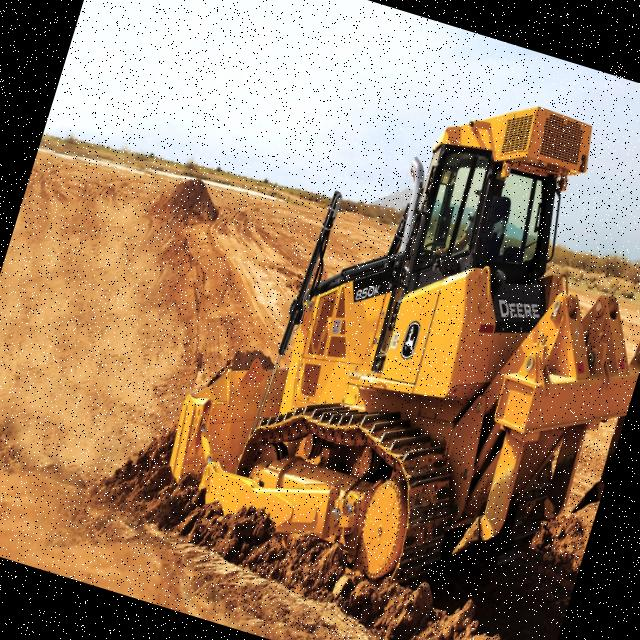Bulldozer: (130, 17, 640, 640)
